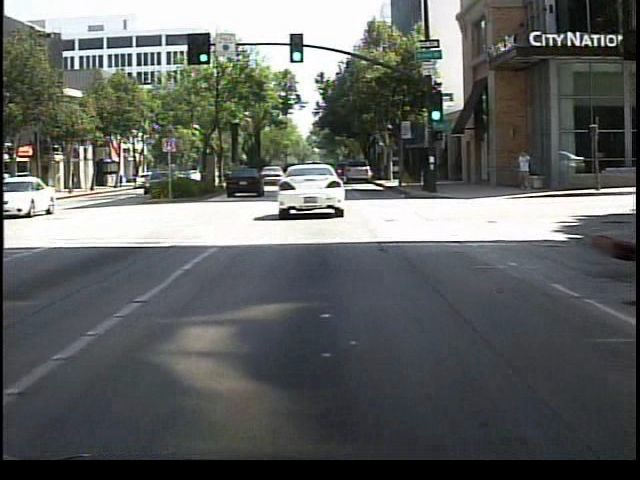person: (513, 148, 535, 196)
